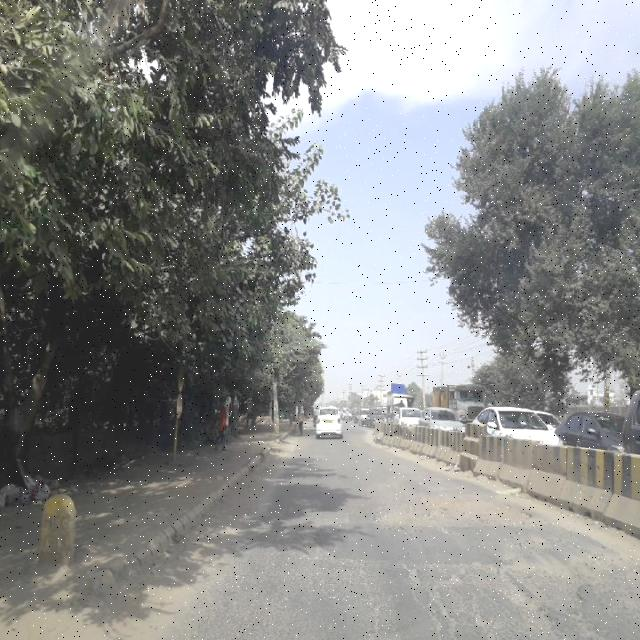D00: (352, 549, 388, 639), (414, 549, 450, 639)
D40: (397, 547, 639, 639), (364, 490, 542, 546)
